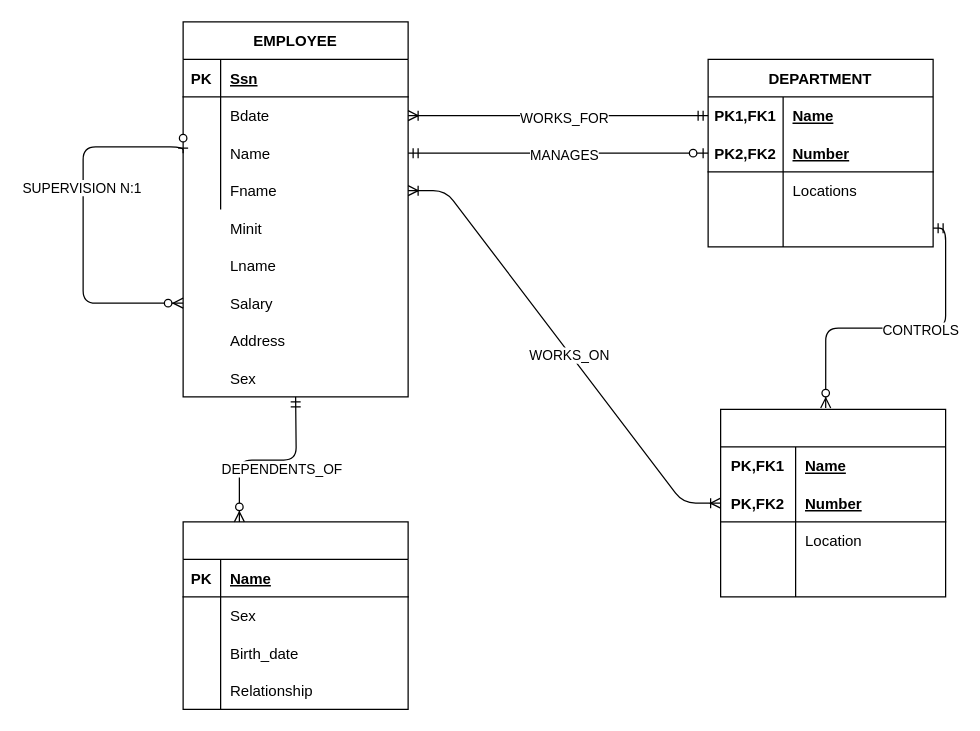
Some shapes in this 980 by 731 pixel diagram are drawn without their labels. Here are the shapes that lost their labels. From the top down, the box of each, then its label:
(719, 408, 946, 597): PROJECT
(182, 521, 408, 709): DEPENDENT
